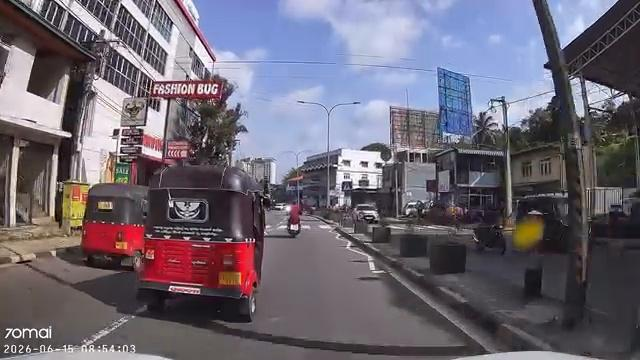illegal overtaking: (147, 153, 272, 323)
